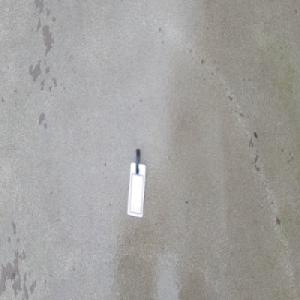LuggageTag: (125, 146, 146, 218)
